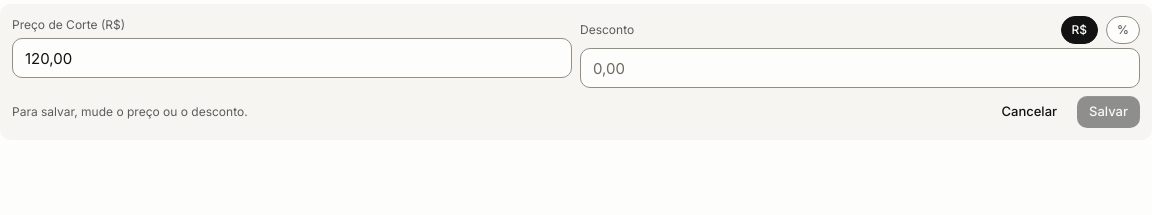
Scenario: preço alterado (QA r58, I-7): o Motivo mostra 'obrigatório' e o Salvar cinza diz o que falta, como no Registrar ligação
Replace the text in the field labelled "Preço de Corte (R$)" with "150" at (292, 58), box [12,38,572,78]
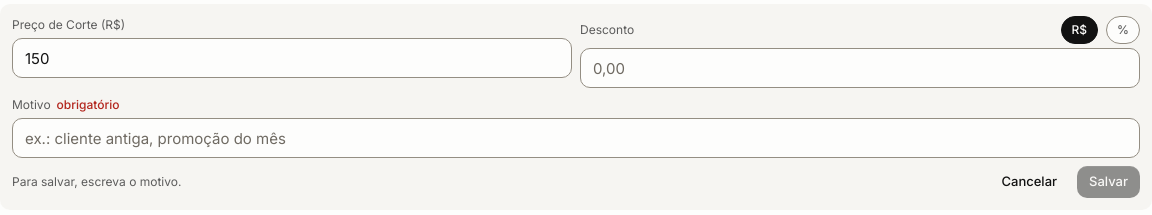
Check: the button "Salvar" is disabled, box [1077,166,1140,198]
Check: the text "obrigatório" is shown, box [57,96,120,114]
Check: the text "Para salvar, escreva o motivo." is shown, box [12,173,181,191]
Type "cabelo mais longo" into the field labelled "Motivo".
click(576, 138); type("cabelo mais longo")  # box [12,118,1140,158]
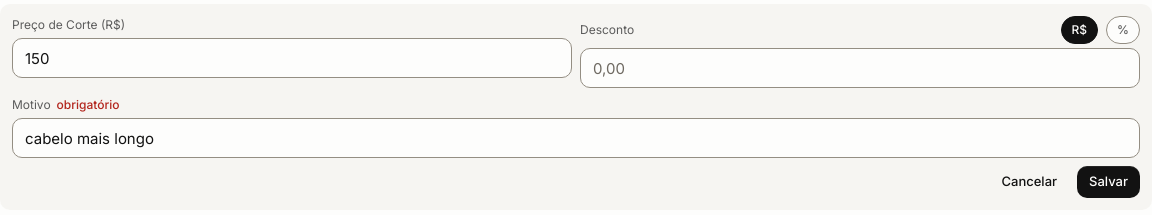
Check: the button "Salvar" is enabled, box [1077,166,1140,198]
Check: the text "Para salvar" is gone
